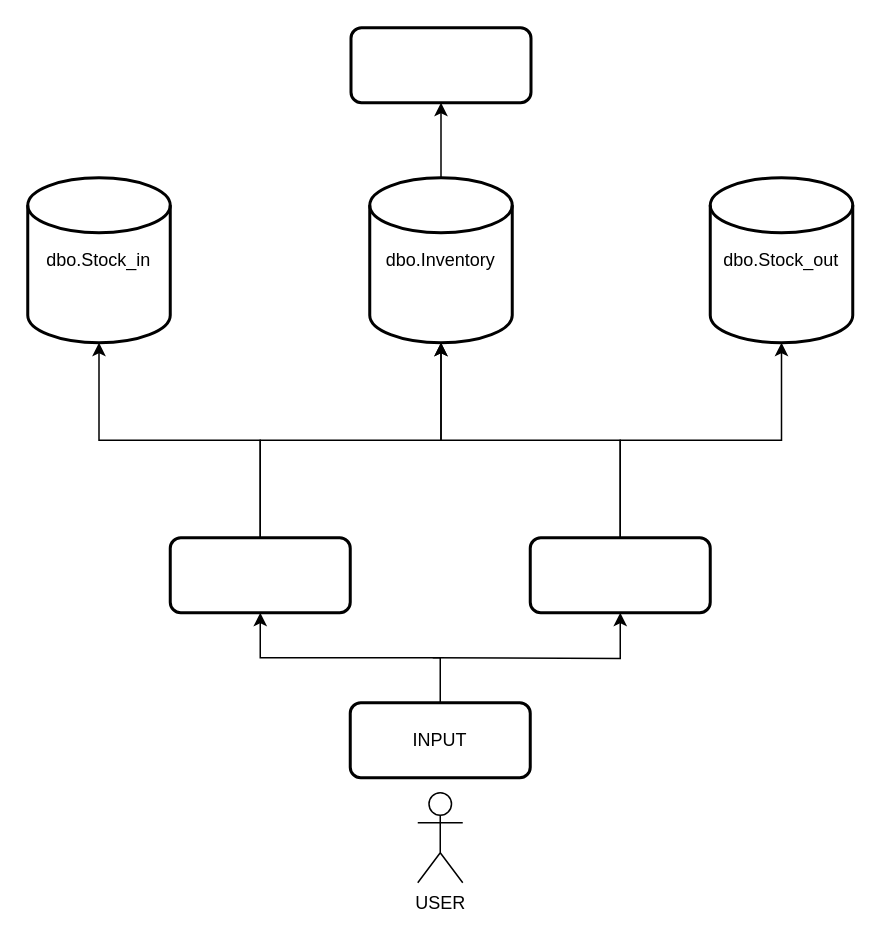
The diagram is 879 pixels wide and 939 high, and some of its shapes have lost their labels. Each missing label, with the box of its shape:
OUTPUT: (349, 26, 532, 104)
STOCK IN: (168, 536, 351, 614)
STOCK OUT: (528, 536, 711, 614)
